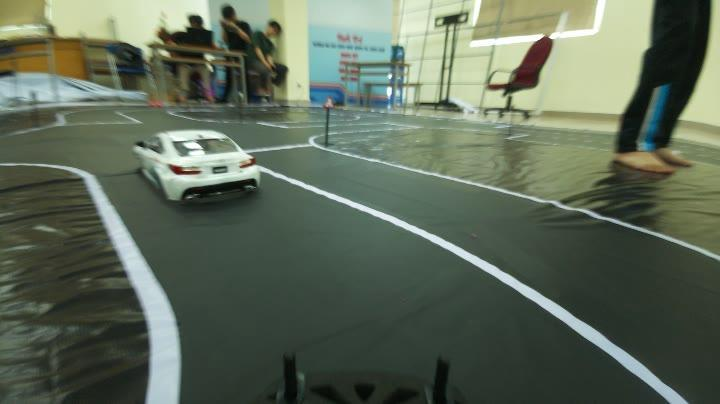car: (127, 132, 274, 204)
